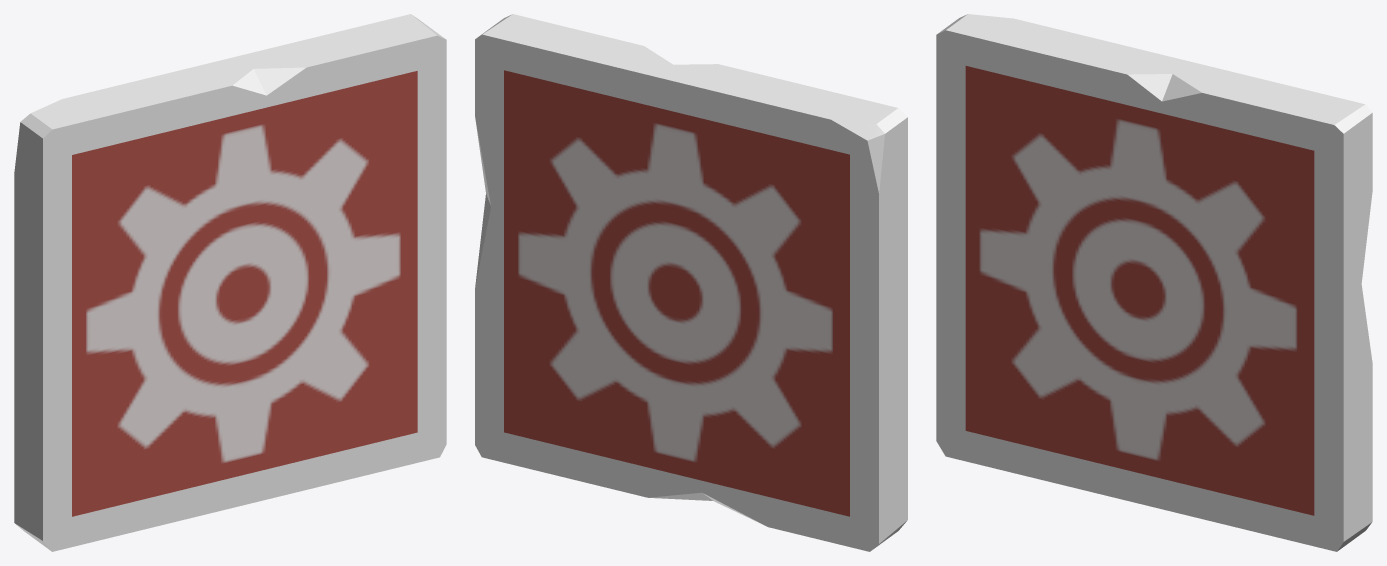
Rendered from SM_SignBorder_Cog_01.fbx.
The picture shows the model from 3 angles, left to right: view 1: azimuth 30°, elevation 25°; view 2: azimuth 150°, elevation 25°; view 3: azimuth 330°, elevation 25°; orthographic projection.
Parts seen in each view (by area): view 1: SM_SignBorder_Cog_01; view 2: SM_SignBorder_Cog_01; view 3: SM_SignBorder_Cog_01.
Boxes of the visible parts, x1,y1,x2,y2 form: SM_SignBorder_Cog_01: [14, 14, 446, 551]; SM_SignBorder_Cog_01: [475, 14, 907, 551]; SM_SignBorder_Cog_01: [936, 14, 1372, 551].
Size of the model in its own units: 117 by 117 by 14.42.
Materials: 1 (1 with a texture image).
